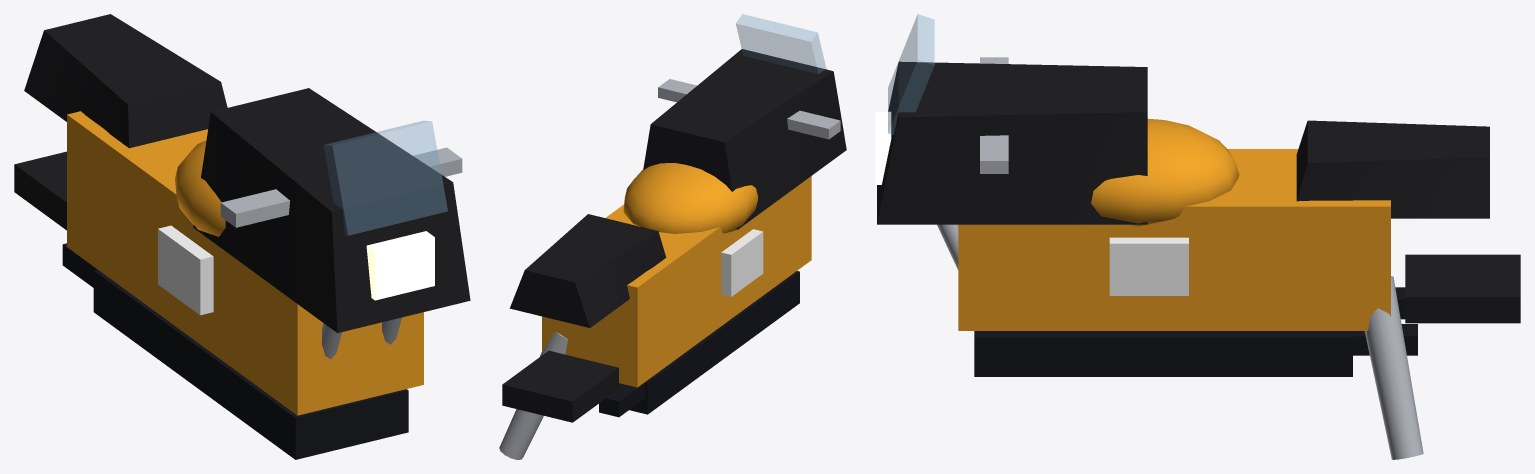
Rendered from superbike.glb.
3 renders of one model, left to right at view 1: azimuth 30°, elevation 25°; view 2: azimuth 150°, elevation 25°; view 3: azimuth 270°, elevation 25°, orthographic. The views are drawn at different scales.
Parts seen in each view (by area): view 1: hornet-1000r; view 2: hornet-1000r; view 3: hornet-1000r.
Boxes of the visible parts, <box> form: hornet-1000r: <box>14,14,470,459</box>; hornet-1000r: <box>499,14,846,459</box>; hornet-1000r: <box>875,14,1520,459</box>.
Size of the model in its own units: 0.68 by 1.17 by 1.79.
